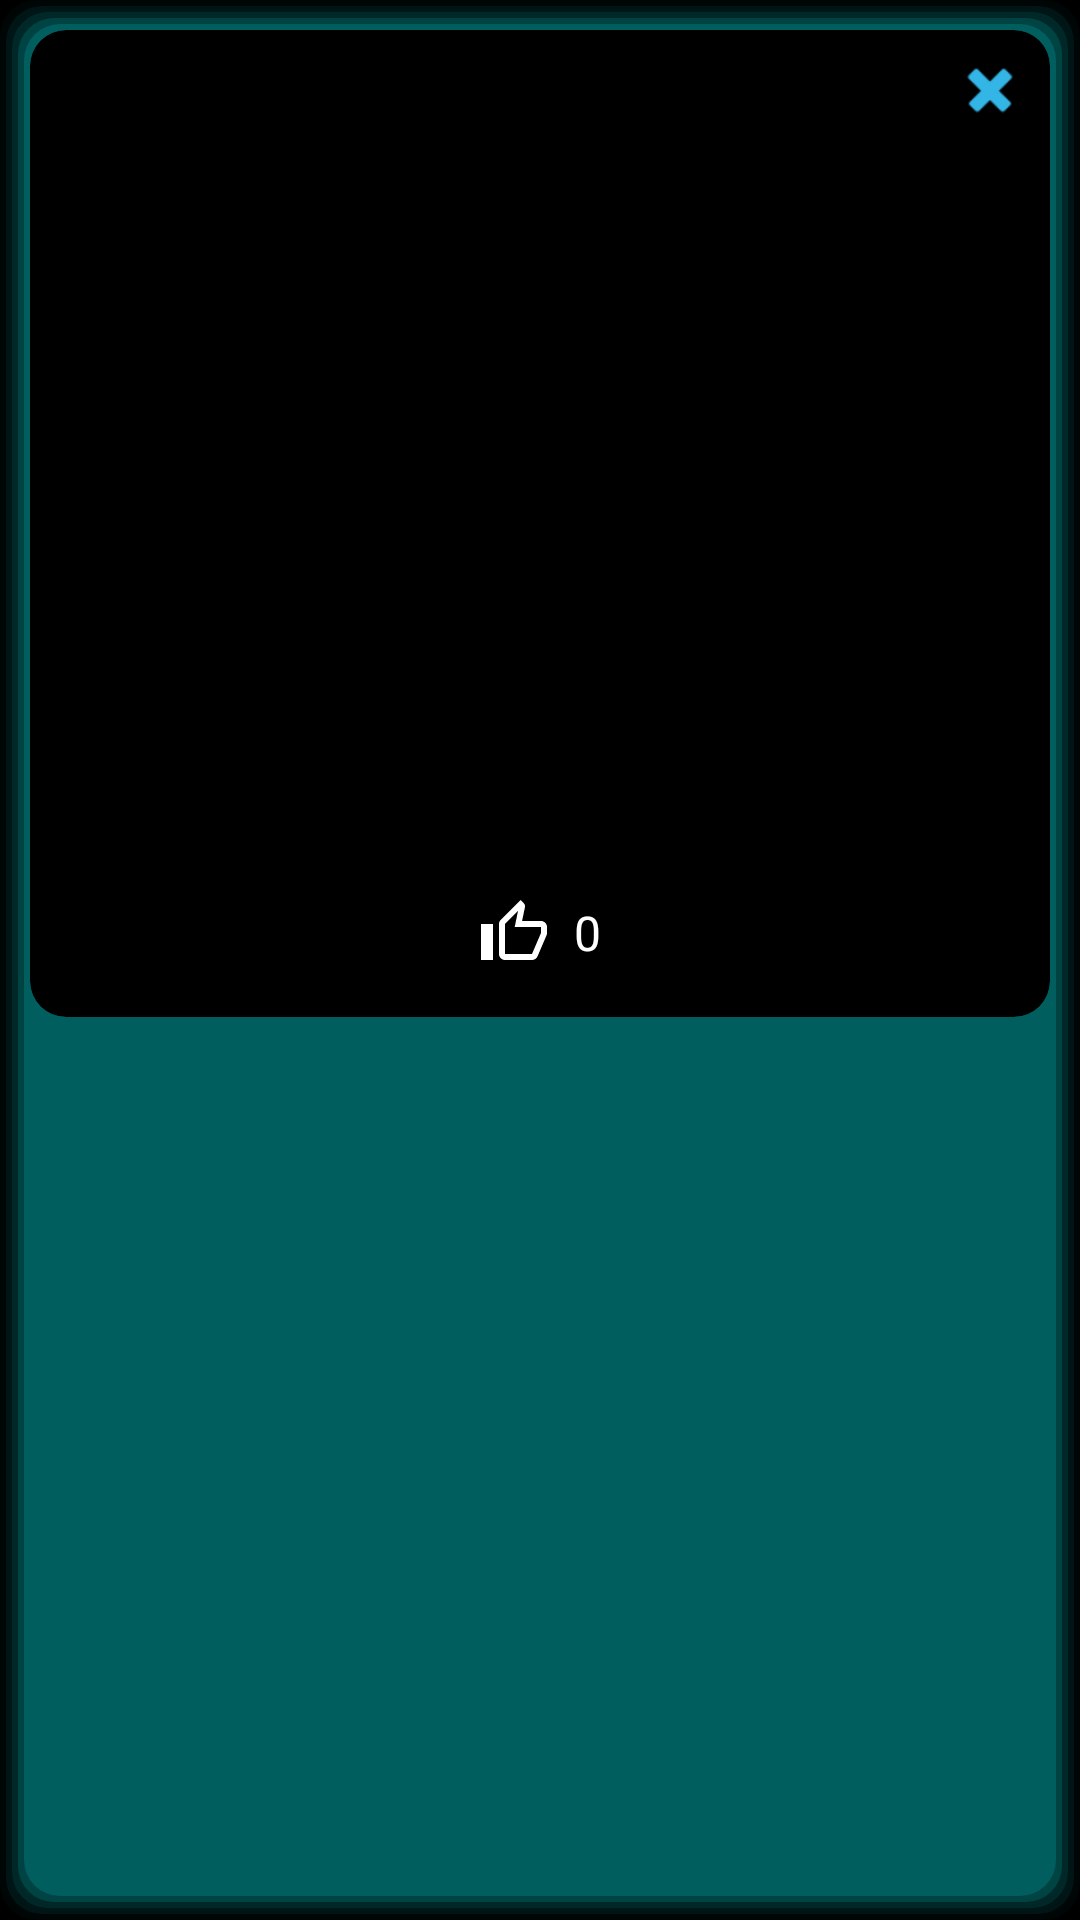

Named icons in this screenshot (1080w x 1920h) and their bounding boxes, (x1, y1, x2, y2):
Delete media list: (967, 68, 1013, 113)
Like Button: (481, 900, 547, 960)
